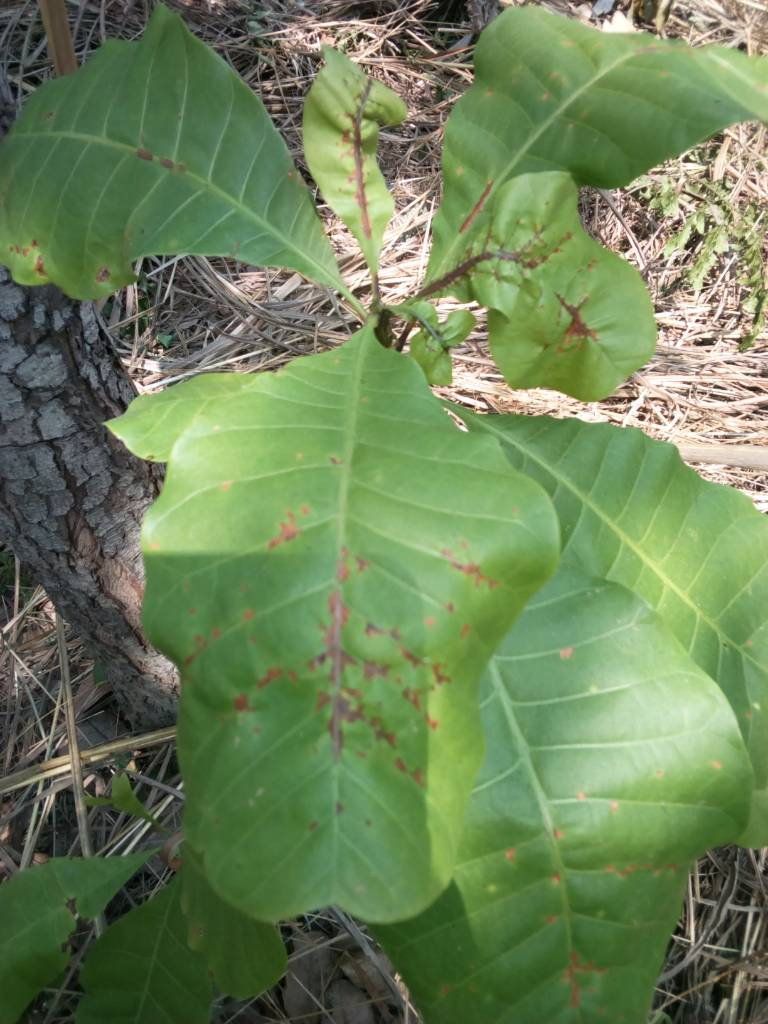Alternariose: (146, 397, 568, 927), (419, 611, 744, 1024), (433, 1, 763, 257), (1, 10, 293, 291)
